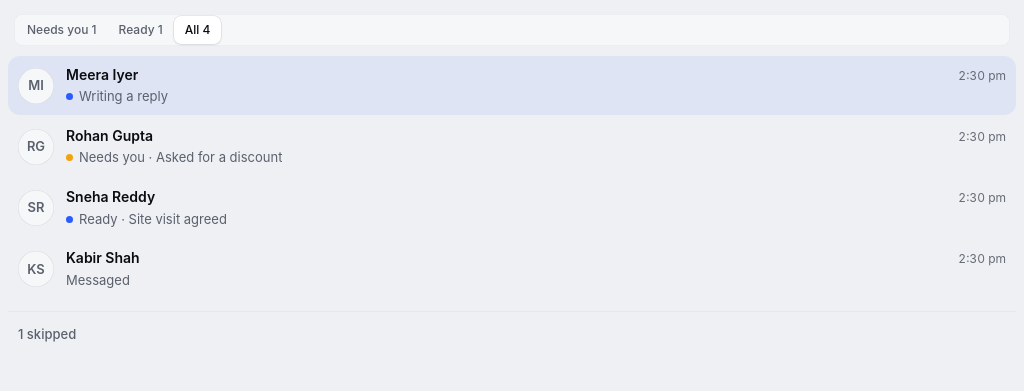
Scenario: LeadPane › the skipped fold away under All, each with why
Click the button "1 skipped" at (47, 334), box [8,319,86,349]
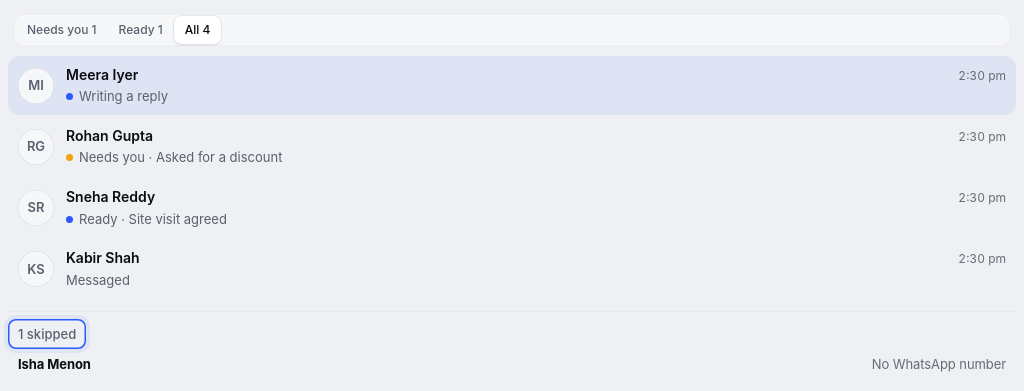
expect the text "No WhatsApp number" is shown: met, box [872,355,1006,374]
